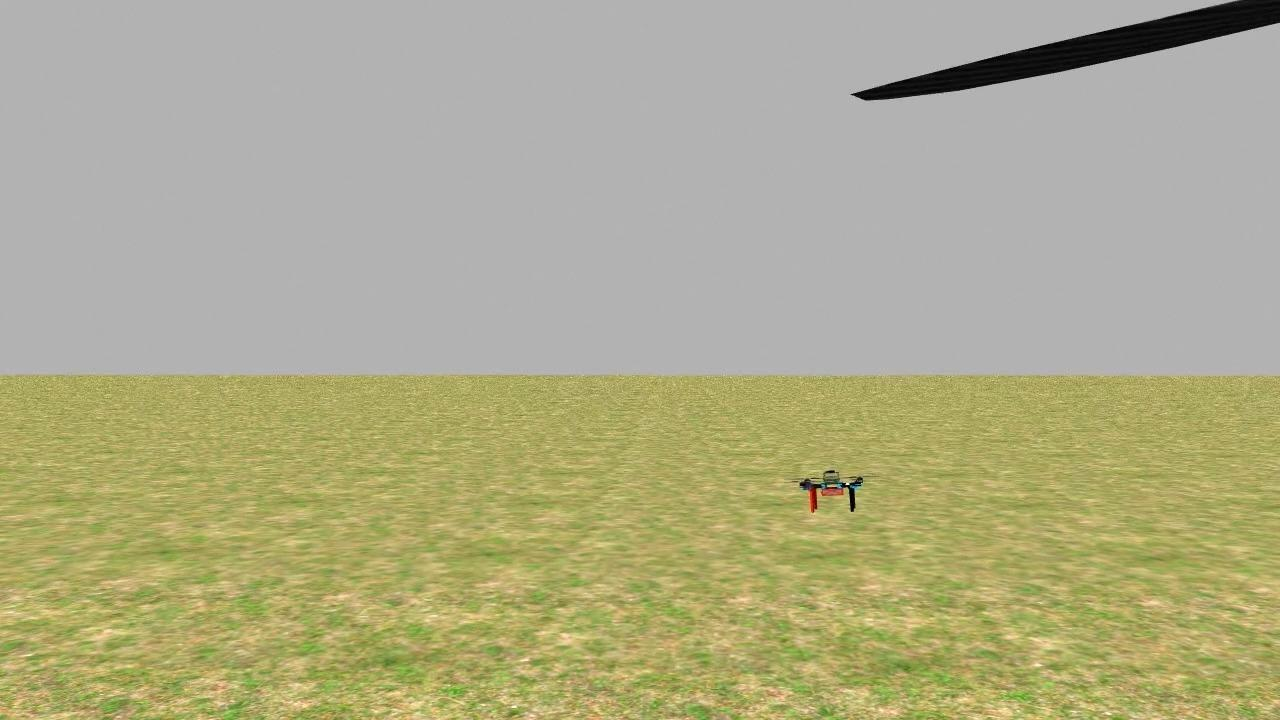UAV: (792, 454, 878, 524)
